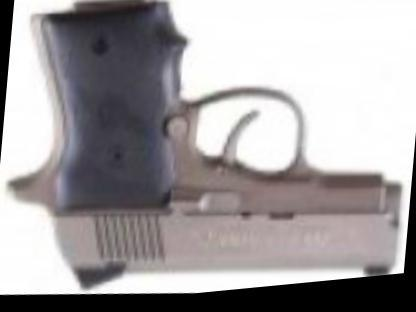pistol: (5, 0, 415, 311)
